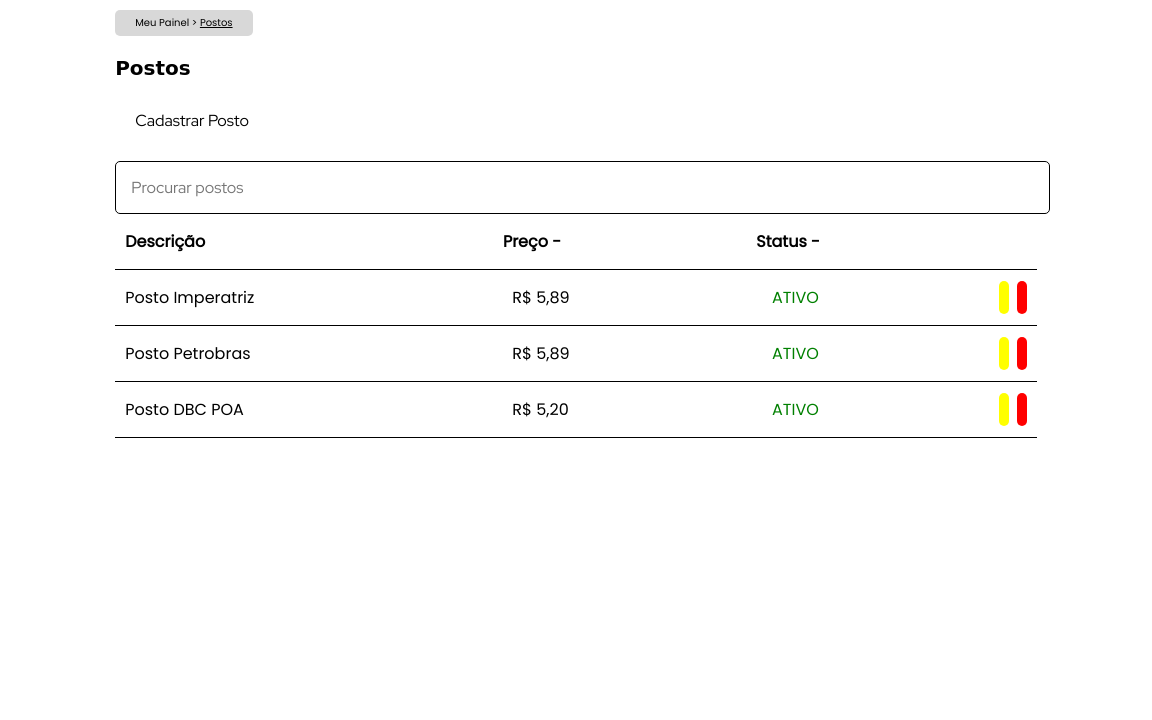
Test: GasStations Page › should open EditGasStationModal when edit button is clicked
The width and height of the screenshot is (1152, 720).
Click the 1st button titled "Editar Posto" at [1004, 298], box [999,285,1009,310]
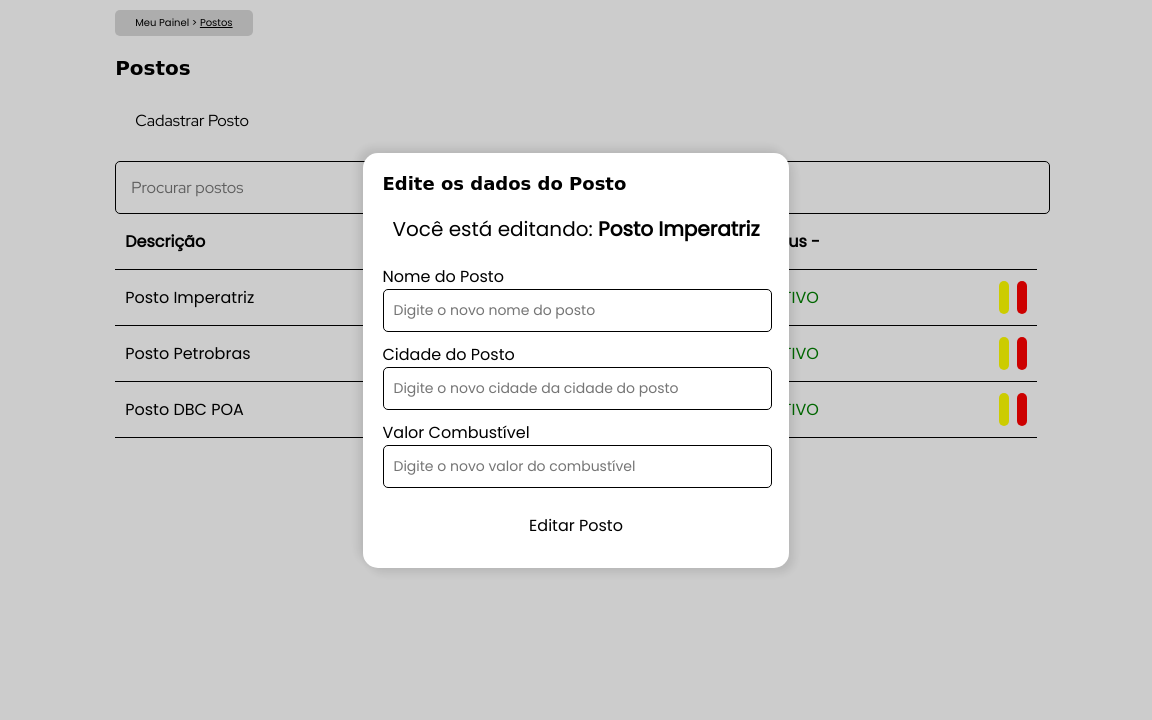
expect the heading "Edite os dados do Posto" is shown: met, box [382,172,626,194]
